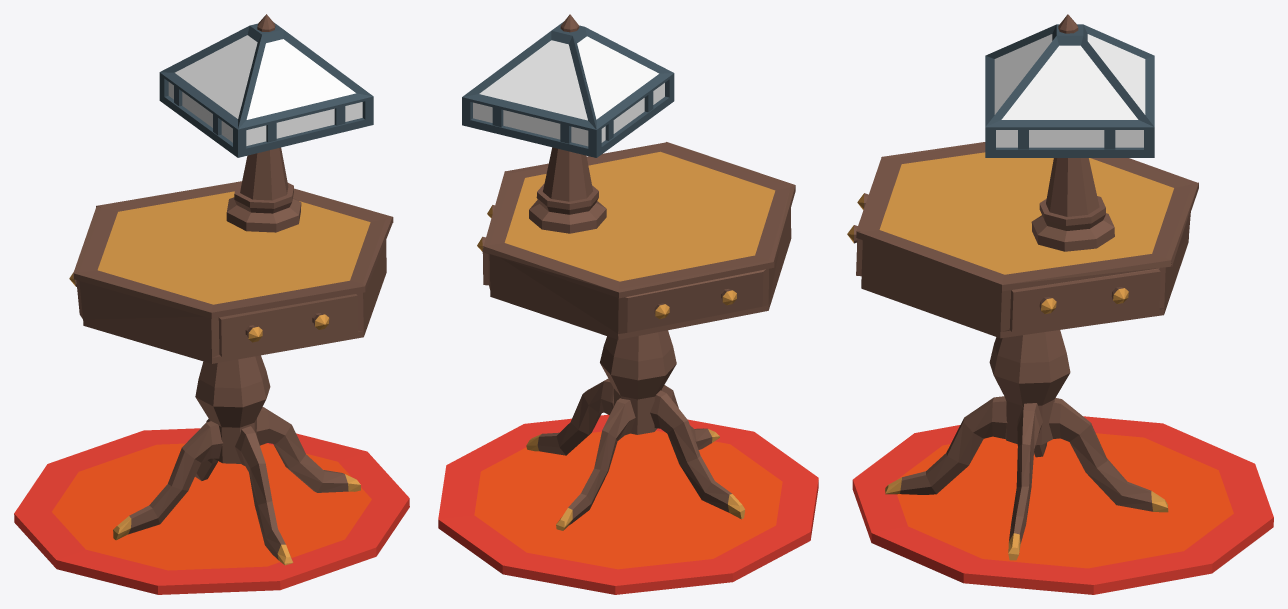
Rendered from End Table.glb.
3 views of the same model, side by side, from view 1: azimuth 30°, elevation 25°; view 2: azimuth 150°, elevation 25°; view 3: azimuth 270°, elevation 25° (orthographic). The views are drawn at different scales.
Visible parts, largest first — view 1: group271791337, group1712406622; view 2: group271791337, group1712406622; view 3: group271791337, group1712406622.
Boxes of the visible parts, x1,y1,x2,y2 form: group271791337: (14,181,409,594); group1712406622: (159,14,373,232); group271791337: (438,142,818,594); group1712406622: (462,14,674,233); group271791337: (847,142,1273,594); group1712406622: (985,14,1154,251).
Bounding box in the file's own units: 0.6 × 0.828 × 0.6052.
